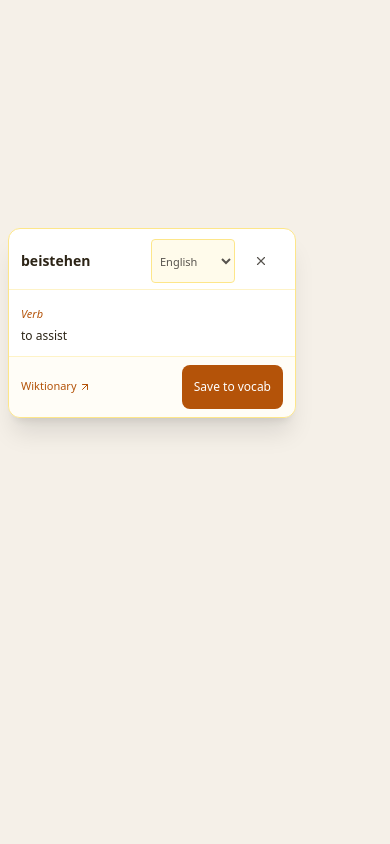
Test: VocabWordTooltip — save behaviour › changes button to 'Saved ✓' after click
This screenshot has width=390, height=844.
Expected: the text "to assist" is shown, [21,327,67,344]
Step 1. Click the button "Save to vocab" → [232, 386], box [182,364,283,408]
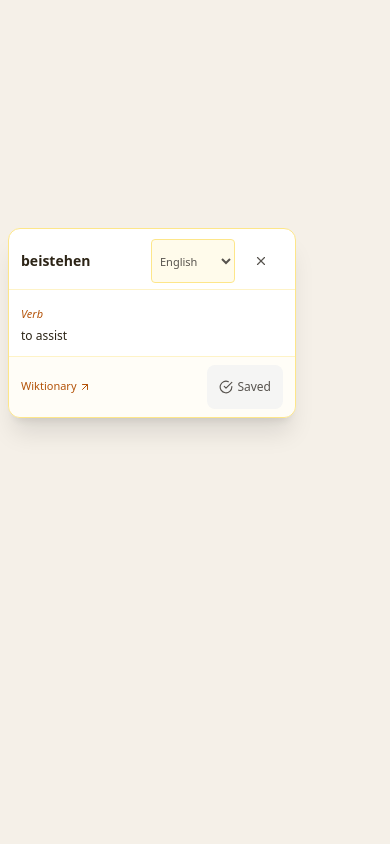
Expected: the button "Saved" is shown, [207,364,283,408]
Expected: the button "Save to vocab" is gone
